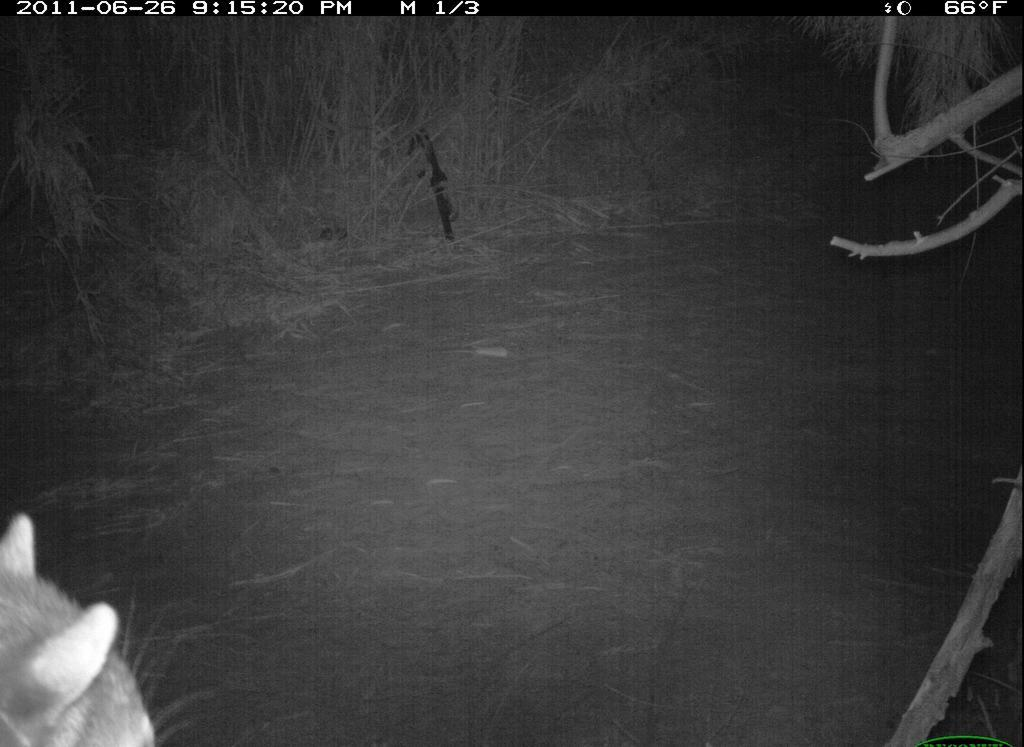raccoon: (3, 513, 161, 747)
